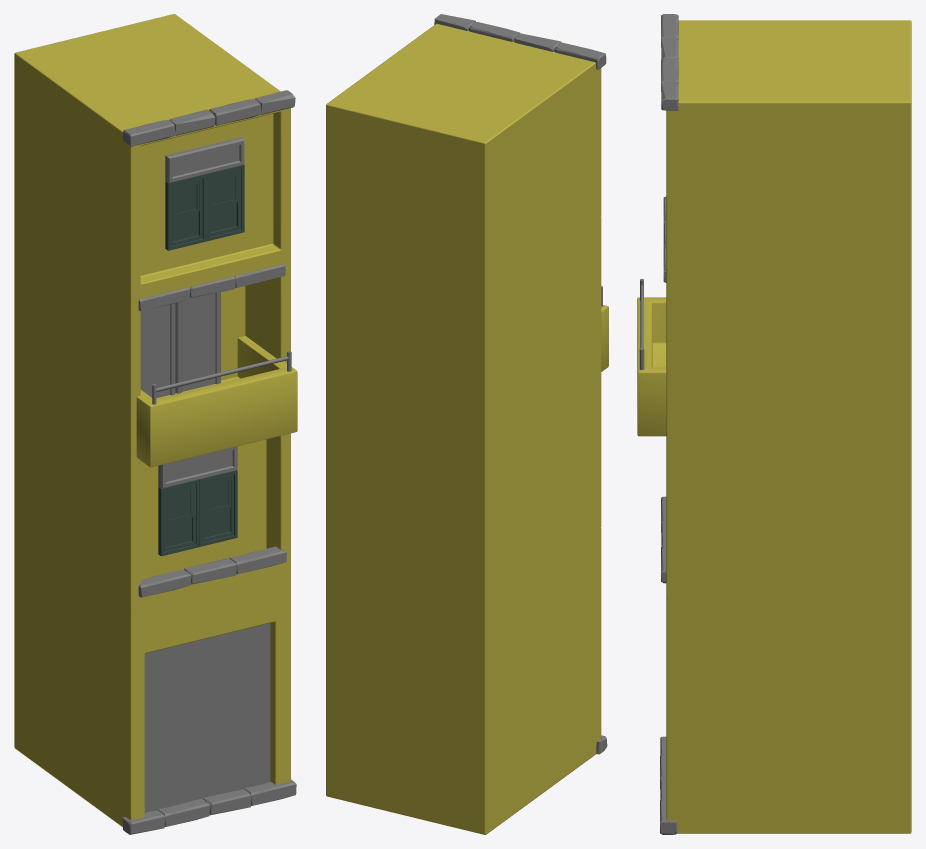
The model's file is SM_building_shop_02.fbx.
The picture shows the model from 3 angles, left to right: view 1: azimuth 30°, elevation 25°; view 2: azimuth 150°, elevation 25°; view 3: azimuth 270°, elevation 25°; orthographic projection. The views are drawn at different scales.
Visible parts, largest first — view 1: Object32682; view 2: Object32682; view 3: Object32682.
Part boxes in pixels (left/top/right/bottom): Object32682: left=14, top=14, right=297, bottom=834; Object32682: left=326, top=14, right=608, bottom=834; Object32682: left=637, top=14, right=911, bottom=834.
Bounding box in the file's own units: 113 × 456 × 154.
